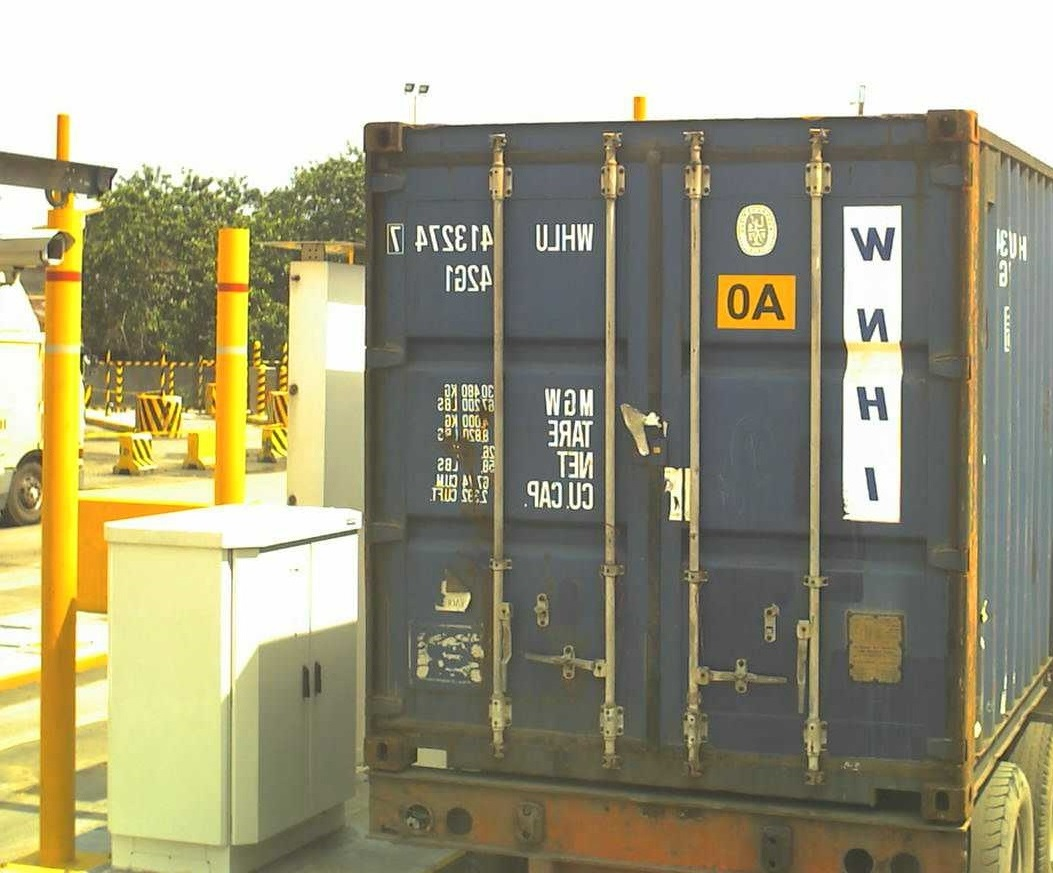container_door: (359, 110, 972, 832)
